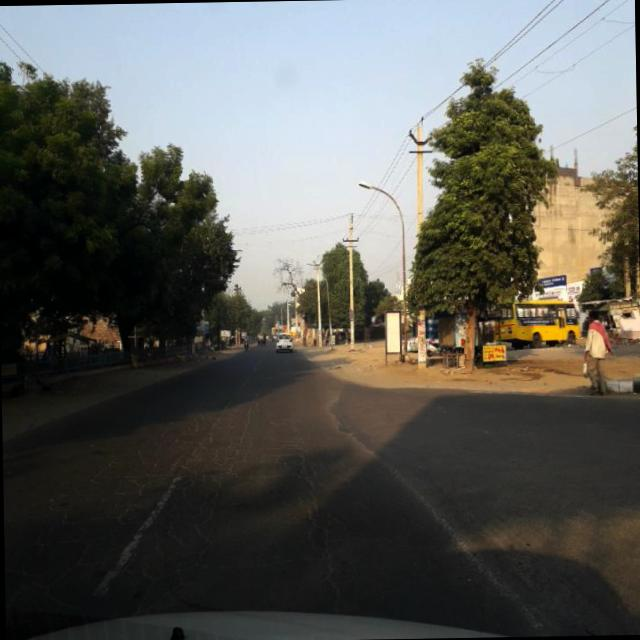crack: (4, 398, 359, 606)
